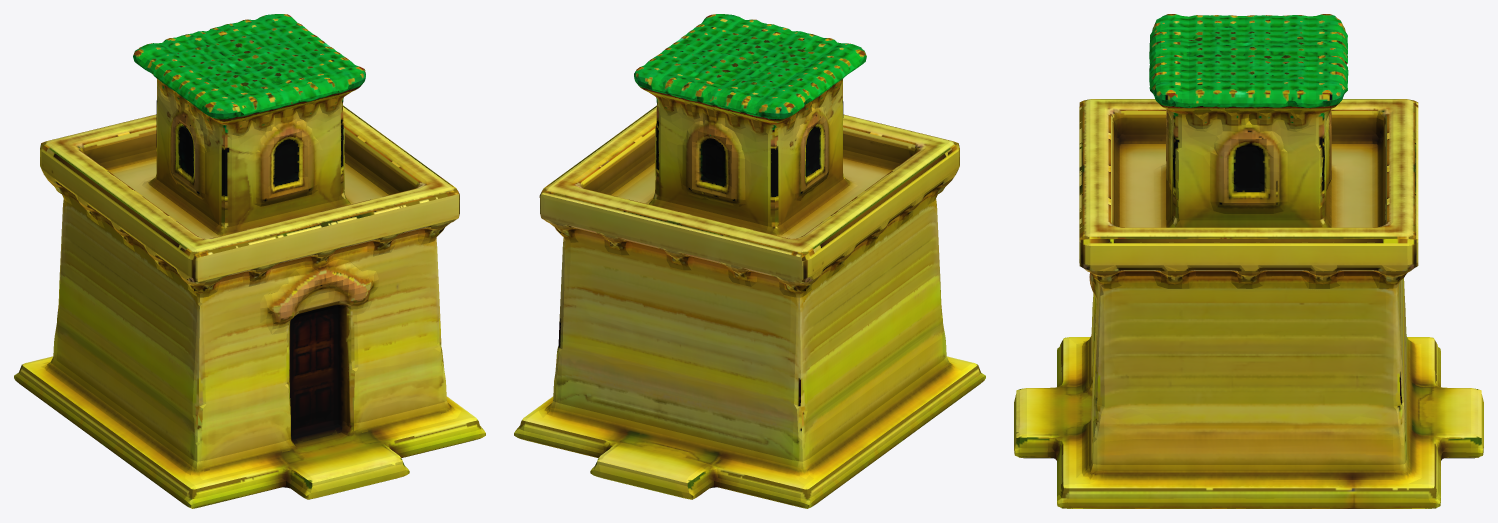
The model's file is house.glb.
3 renders of one model, left to right at view 1: azimuth 30°, elevation 25°; view 2: azimuth 150°, elevation 25°; view 3: azimuth 270°, elevation 25°, orthographic. The views are drawn at different scales.
Parts seen in each view (by area): view 1: house_LOW; view 2: house_LOW; view 3: house_LOW.
Boxes of the visible parts, box(x1,y1,x2,y2) form: house_LOW: box(14, 14, 485, 508); house_LOW: box(514, 14, 985, 508); house_LOW: box(1014, 14, 1483, 508).
Size of the model in its own units: 4.38 by 4.98 by 5.56.
1 material, 1 textured.
